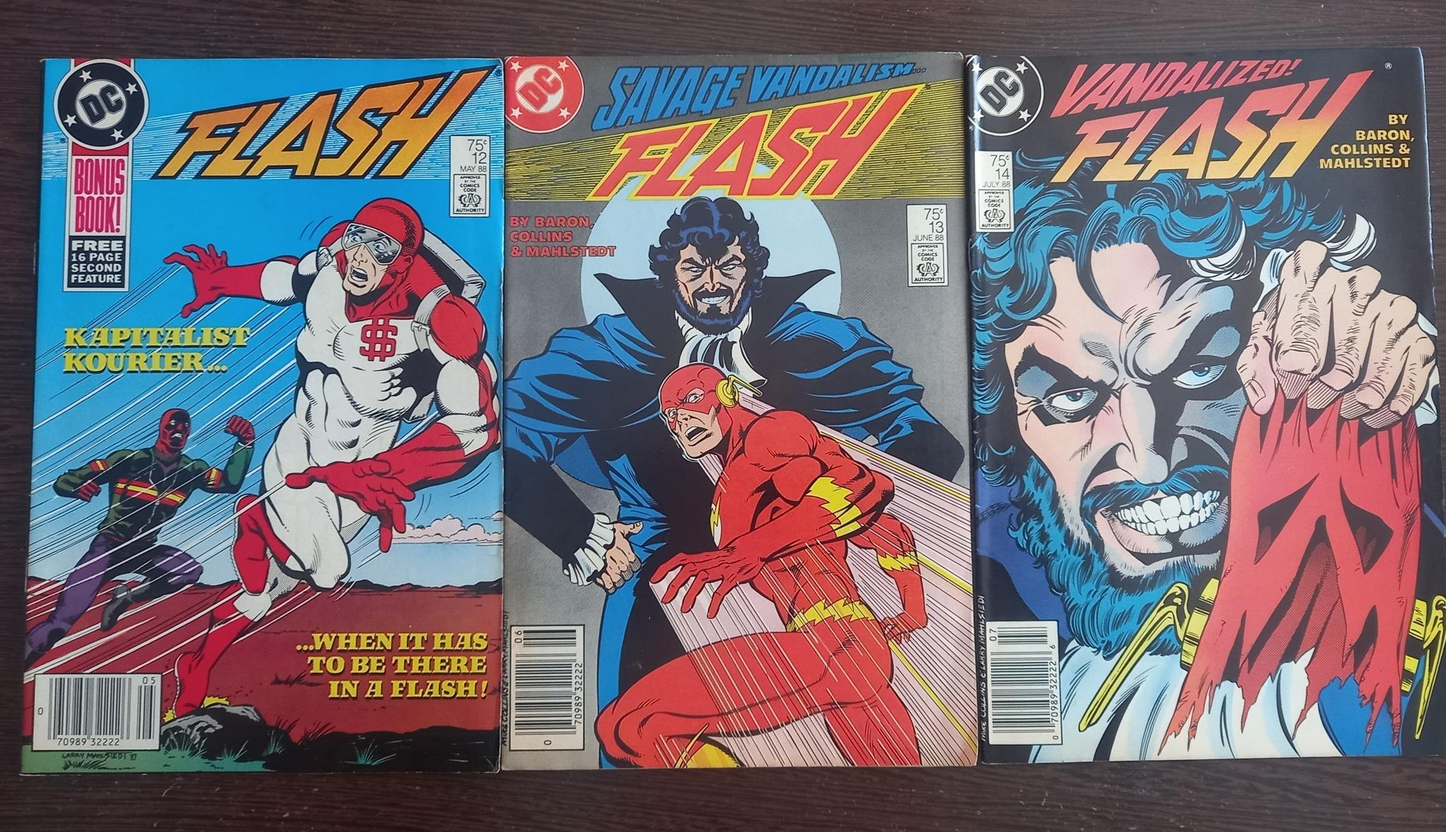comic: (23, 54, 507, 776), (965, 47, 1446, 763), (498, 53, 977, 768)
